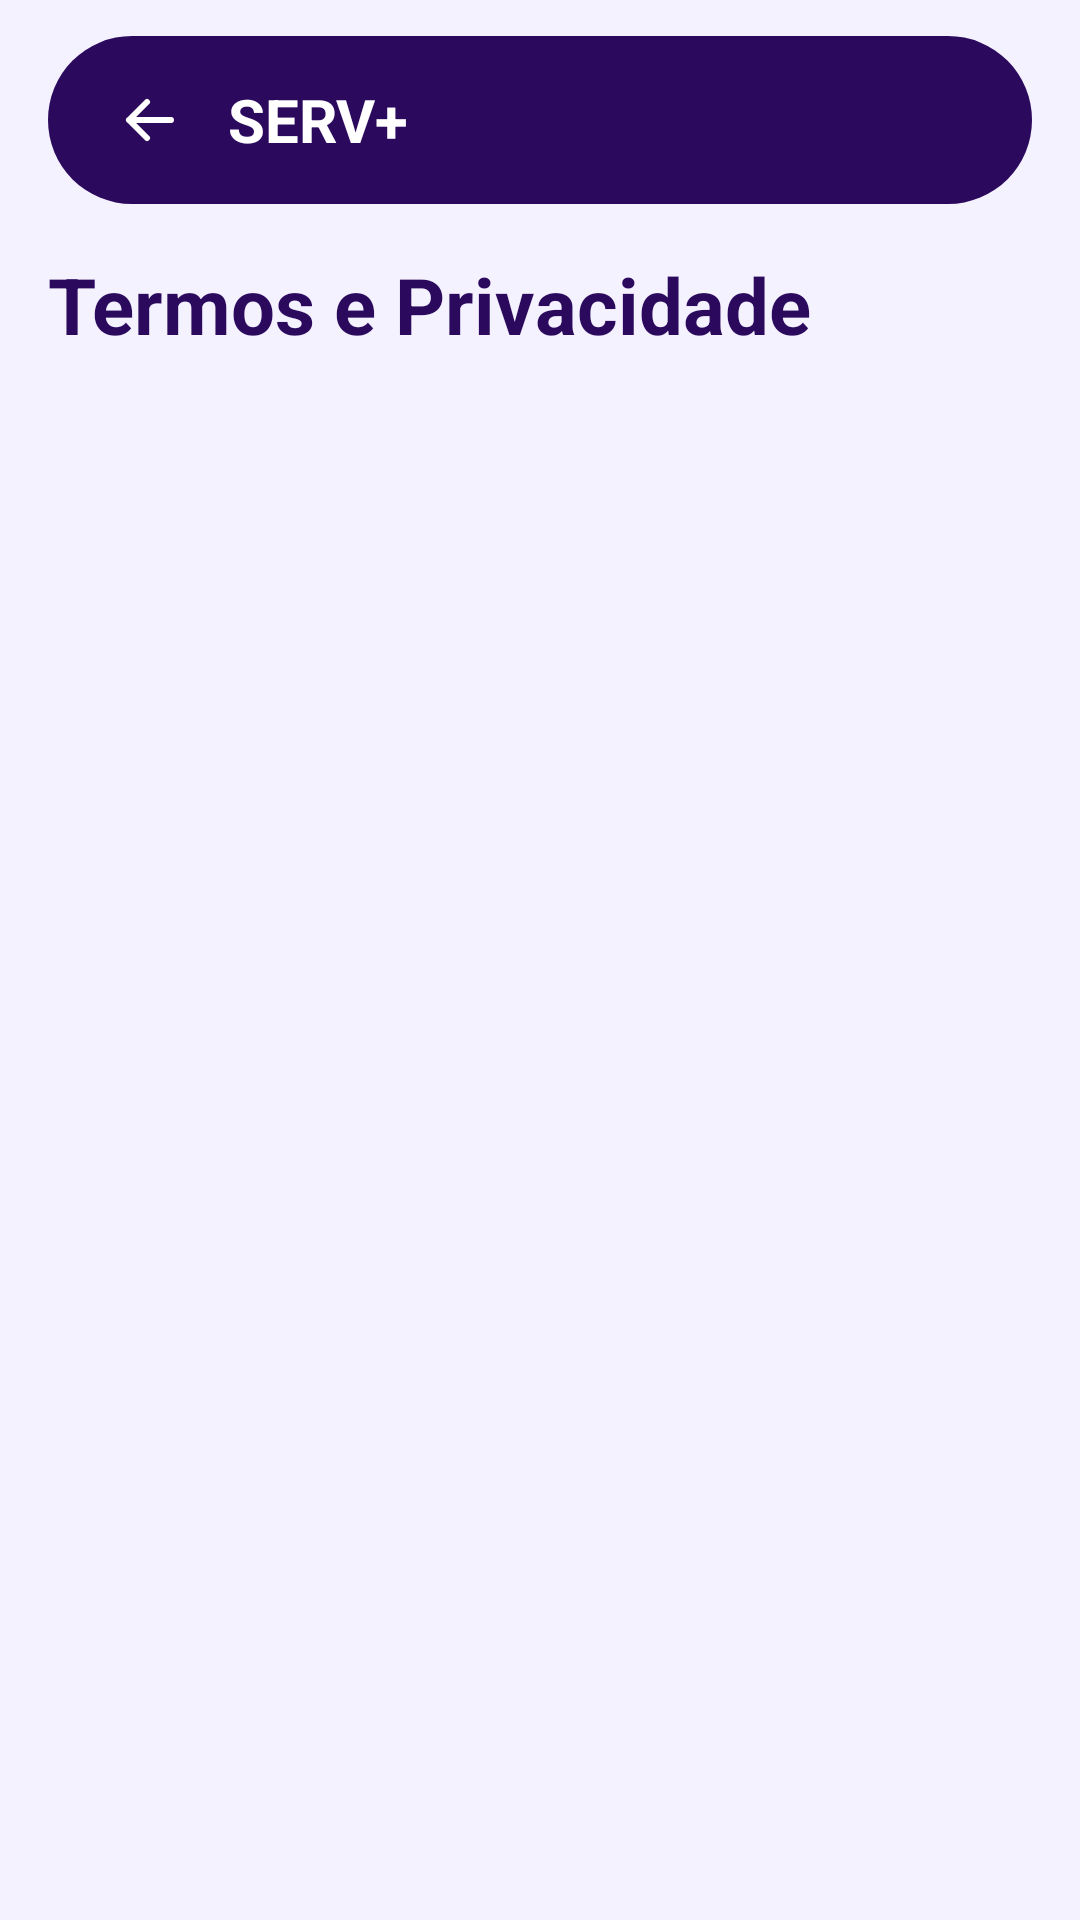

Icons on this 1080w x 1920h Android screen, each with its box as (left=x1, top=y1, right=x2, bottom=y2):
Voltar: (left=126, top=99, right=174, bottom=141)
